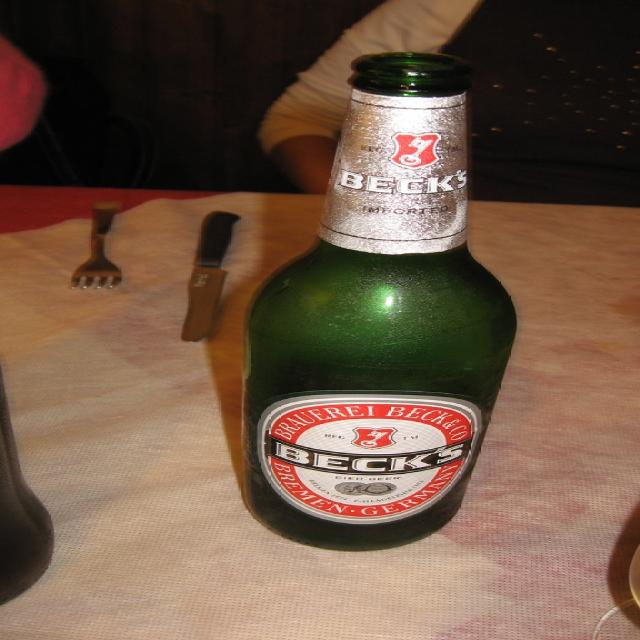becks: (257, 395, 482, 526)
